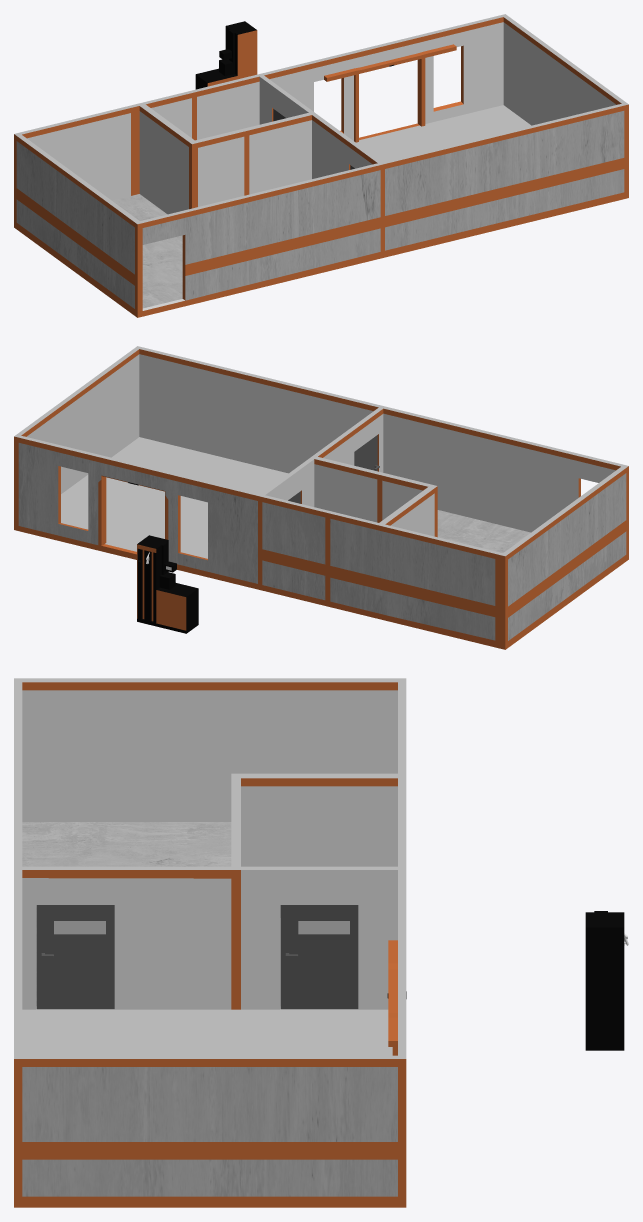
The picture shows the model from 3 angles, top to bottom: view 1: azimuth 30°, elevation 25°; view 2: azimuth 150°, elevation 25°; view 3: azimuth 270°, elevation 25°; orthographic projection. The views are drawn at different scales.
Parts seen in each view (by area): view 1: МАГАЗИН, заправочные калонки.002; view 2: МАГАЗИН, заправочные калонки.002, дверь на склад; view 3: МАГАЗИН, дверь на склад, дверь в комнату охраника, заправочные калонки.002.
Boxes of the visible parts, bbox=[...] form: МАГАЗИН: bbox=[14, 14, 628, 317]; заправочные калонки.002: bbox=[195, 21, 257, 89]; МАГАЗИН: bbox=[14, 346, 628, 649]; заправочные калонки.002: bbox=[137, 535, 198, 633]; дверь на склад: bbox=[354, 435, 379, 471]; МАГАЗИН: bbox=[14, 678, 406, 1207]; дверь на склад: bbox=[36, 905, 114, 1009]; дверь в комнату охраника: bbox=[280, 905, 358, 1009]; заправочные калонки.002: bbox=[585, 911, 624, 1050].
Size of the model in its own units: 21767 by 3960 by 14863.
